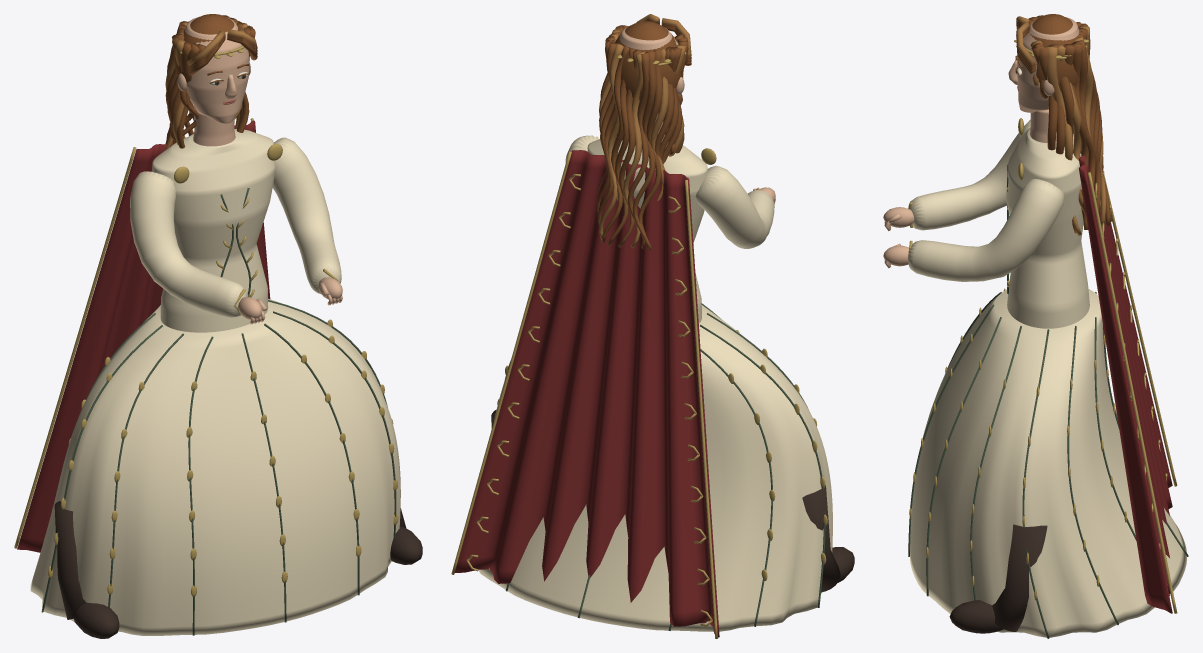
The model's file is princess-v1-before-drape.glb.
The picture shows the model from 3 angles, left to right: view 1: azimuth 30°, elevation 25°; view 2: azimuth 150°, elevation 25°; view 3: azimuth 270°, elevation 25°; orthographic projection. The views are drawn at different scales.
Parts seen in each view (by area): view 1: MorrisPrincess_surface, body_surface, cape_surface, head_surface, armL_surface, armR_surface; view 2: cape_surface, MorrisPrincess_surface, head_surface, armL_surface, body_surface; view 3: MorrisPrincess_surface, cape_surface, head_surface, body_surface, armR_surface, armL_surface.
Boxes of the visible parts, bbox=[...] form: MorrisPrincess_surface: bbox=[30, 299, 422, 638]; body_surface: bbox=[152, 106, 282, 332]; cape_surface: bbox=[14, 118, 270, 552]; head_surface: bbox=[165, 14, 257, 149]; armL_surface: bbox=[130, 171, 266, 324]; armR_surface: bbox=[272, 137, 342, 305]; cape_surface: bbox=[451, 150, 719, 638]; MorrisPrincess_surface: bbox=[478, 303, 854, 631]; head_surface: bbox=[596, 14, 691, 250]; armL_surface: bbox=[695, 165, 775, 248]; body_surface: bbox=[587, 114, 716, 323]; MorrisPrincess_surface: bbox=[908, 288, 1188, 638]; cape_surface: bbox=[1079, 147, 1177, 613]; head_surface: bbox=[1008, 14, 1112, 235]; body_surface: bbox=[1006, 109, 1089, 328]; armR_surface: bbox=[883, 179, 1064, 281]; armL_surface: bbox=[883, 119, 1030, 231].
Bounding box in the file's own units: 1.01 × 1.55 × 0.793.
